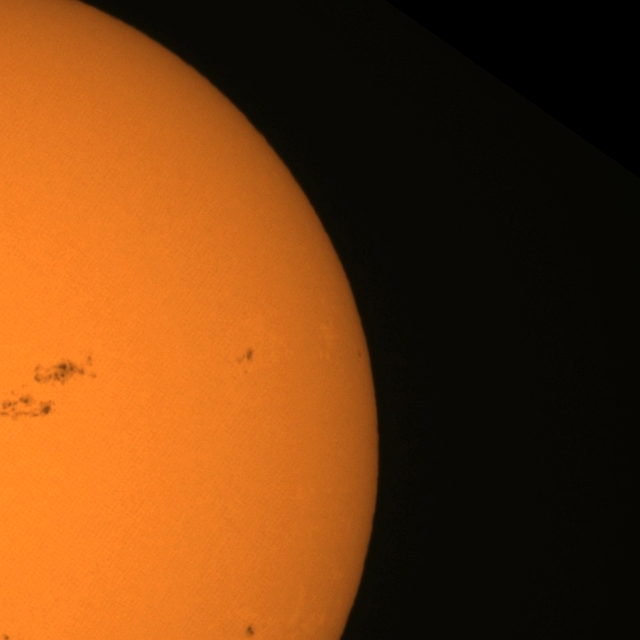sunspot: (26, 356, 94, 390), (0, 383, 57, 423), (238, 346, 254, 376), (245, 624, 256, 638), (356, 349, 363, 359), (2, 633, 11, 640)
